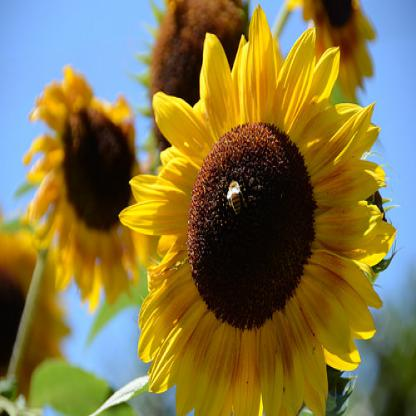SUN FLOWER: (15, 14, 408, 405)
